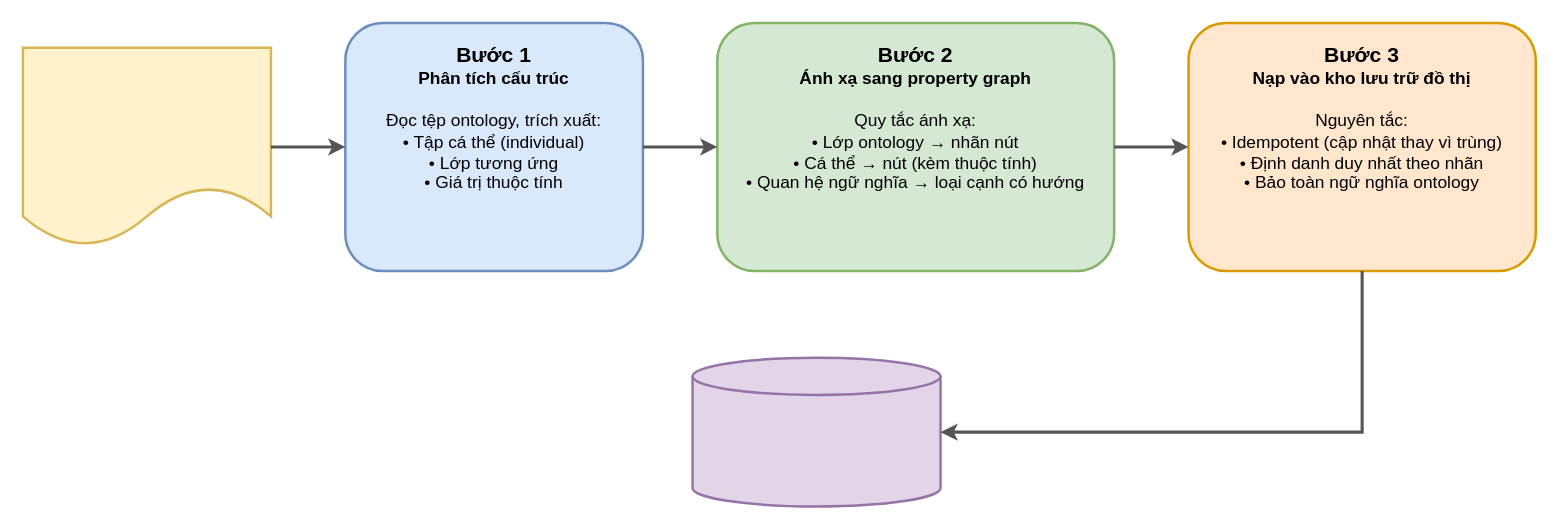
The diagram is 1557 pixels wide and 528 high, and some of its shapes have lost their labels. The centre of each missing label's shape, as x and y in pixels:
"Đầu ra Knowledge Graph dạng property graph" belongs at point 816,431.
"Đầu vào Ontology gốc (chuẩn OWL)" belongs at point 146,146.
